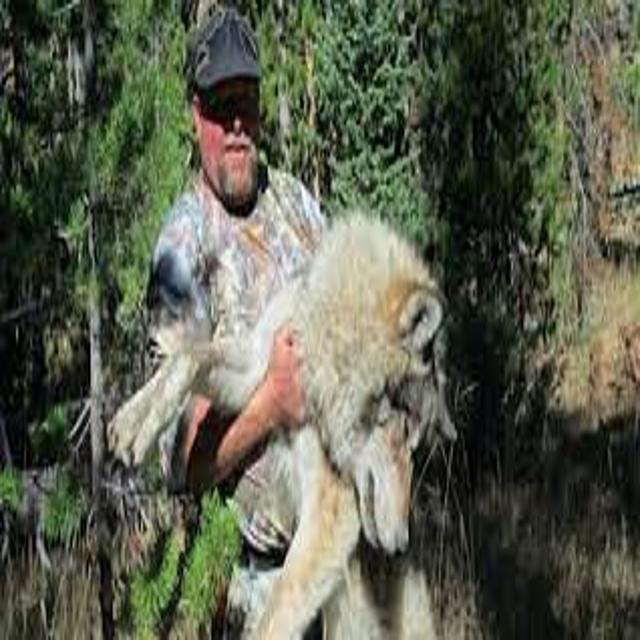poacher: (88, 14, 415, 570)
wolf: (76, 196, 507, 640)
